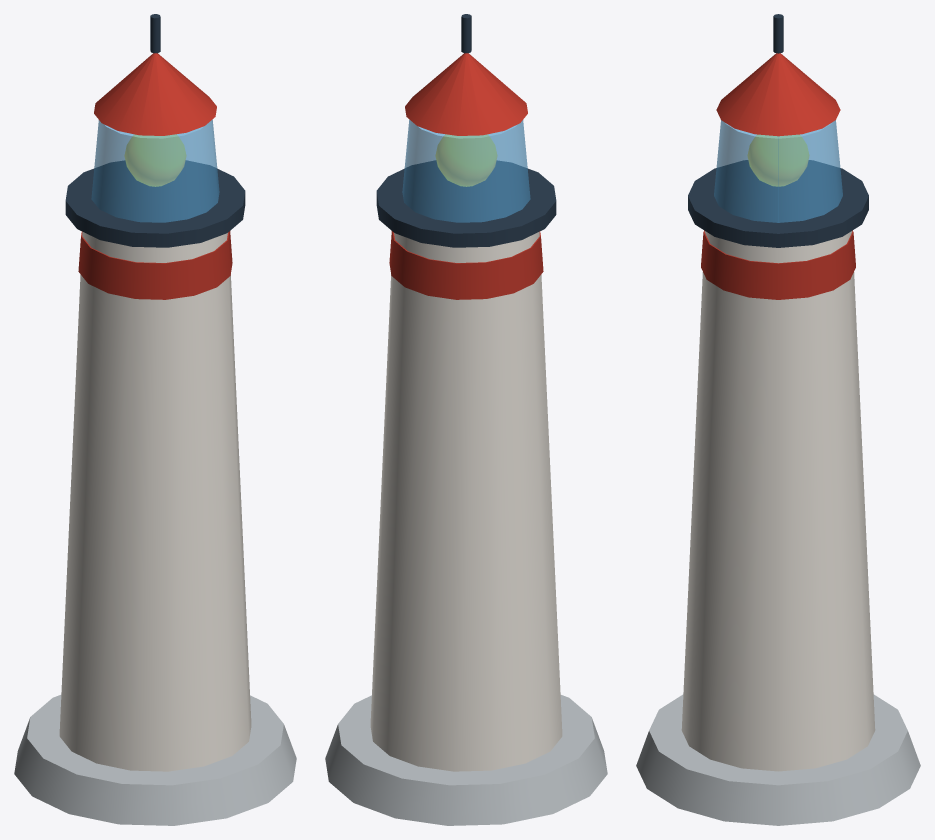
Rendered from lighthouse.glb.
3 renders of one model, left to right at view 1: azimuth 30°, elevation 25°; view 2: azimuth 150°, elevation 25°; view 3: azimuth 270°, elevation 25°, orthographic.
Size of the model in its own units: 1.1 by 3.2 by 1.1.
